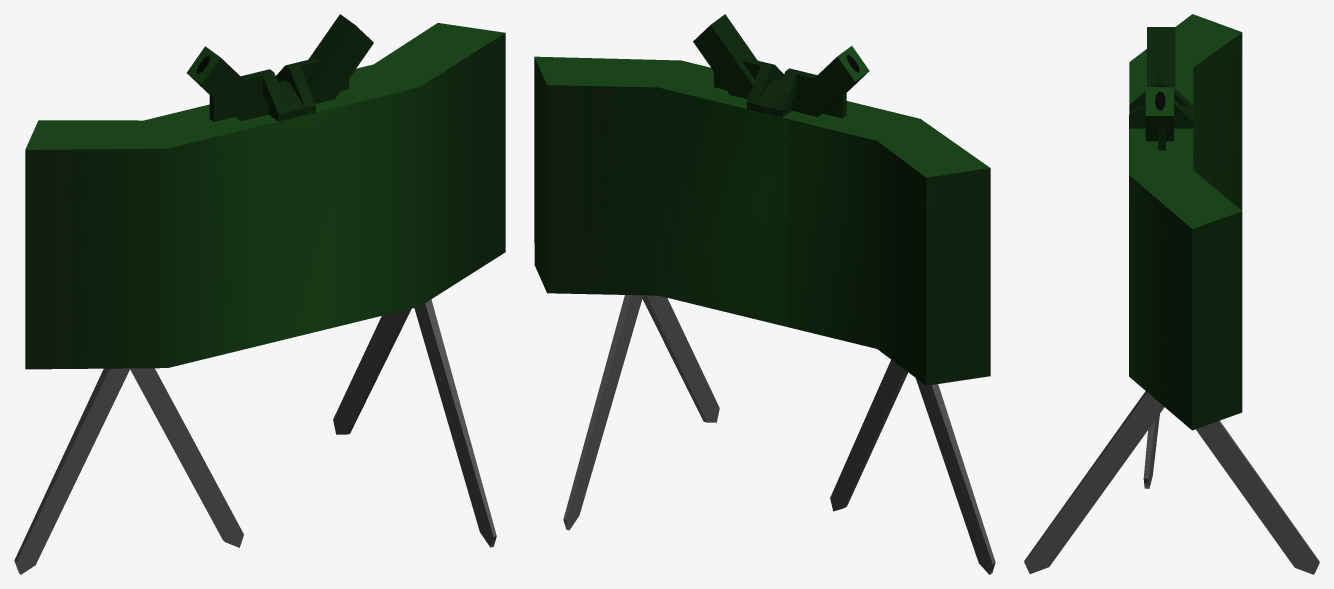
The model's file is Claymore.FBX.
3 renders of one model, left to right at view 1: azimuth 30°, elevation 25°; view 2: azimuth 150°, elevation 25°; view 3: azimuth 270°, elevation 25°, orthographic. The views are drawn at different scales.
Parts seen in each view (by area): view 1: Box001; view 2: Box001; view 3: Box001.
Part boxes in pixels (box(x1,y1,x2,y2)): Box001: box(14, 14, 505, 574); Box001: box(534, 14, 995, 574); Box001: box(1024, 14, 1319, 574).
Size of the model in its own units: 32.37 by 31.38 by 18.51.
